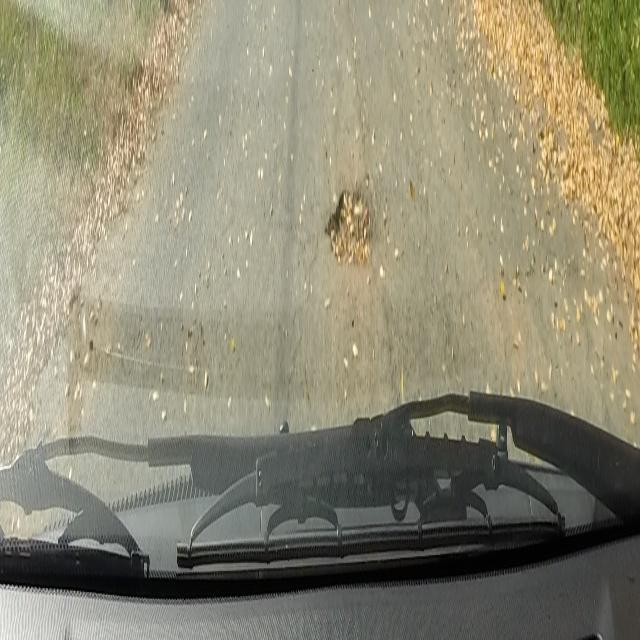pothole: (323, 180, 374, 274)
